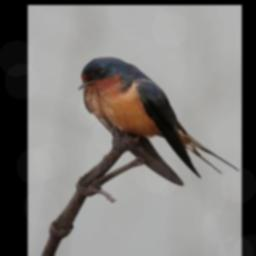Swallow: (76, 55, 238, 185)
